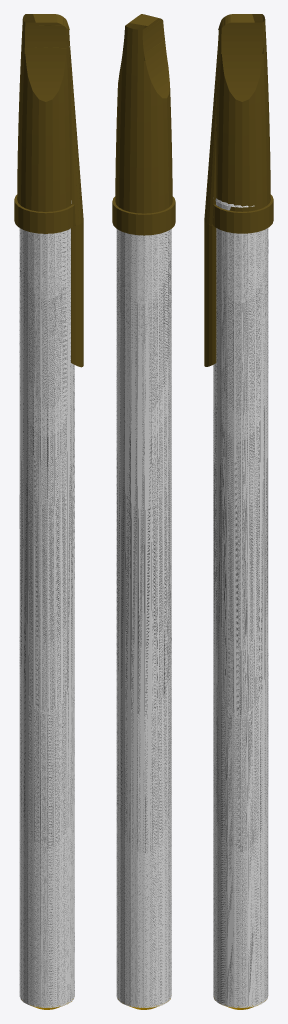
3 views of the same model, side by side, from view 1: azimuth 90°, elevation 25°; view 2: azimuth 150°, elevation 25°; view 3: azimuth 270°, elevation 25° (orthographic).
Visible parts, largest first — view 1: pen; view 2: pen; view 3: pen.
Part boxes in pixels (bbox=[...]): pen: bbox=[14, 14, 83, 1009]; pen: bbox=[112, 14, 175, 1009]; pen: bbox=[204, 14, 273, 1009].
Bounding box in the file's own units: 0.3601 × 6.17 × 0.3936.
